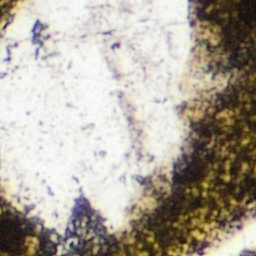cement_matrix: (0, 0, 255, 255), (0, 0, 15, 21), (32, 22, 45, 45), (245, 253, 255, 255)
gravel_crushed_stones: (0, 0, 229, 254), (177, 208, 255, 255), (31, 21, 46, 46)
